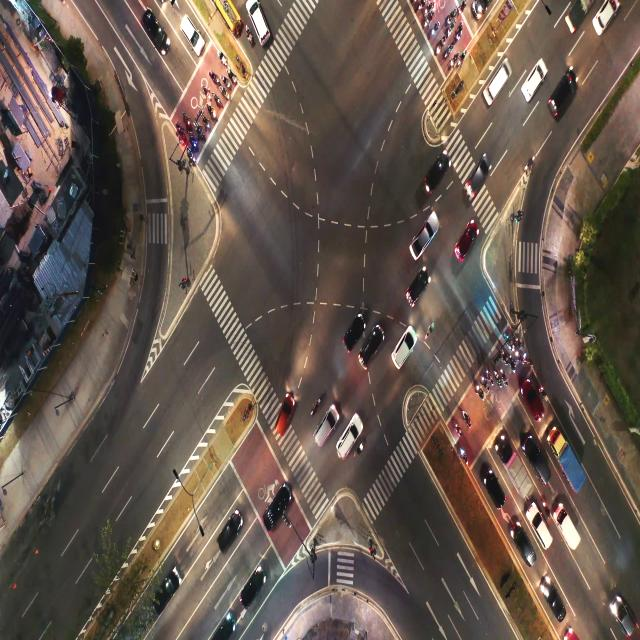bus: (223, 0, 236, 21)
car: (598, 0, 620, 25), (460, 225, 472, 259), (242, 582, 258, 607), (517, 532, 532, 558), (414, 231, 430, 254), (487, 74, 501, 99), (556, 81, 568, 110), (183, 24, 198, 47), (534, 520, 548, 544), (220, 525, 236, 545), (409, 280, 425, 300), (159, 586, 174, 606), (469, 170, 483, 190), (524, 74, 536, 97), (342, 428, 352, 455), (269, 502, 280, 524), (427, 169, 440, 187), (276, 407, 286, 429), (346, 329, 358, 346), (364, 342, 374, 362), (150, 30, 162, 44), (491, 487, 500, 504), (256, 10, 264, 29), (399, 346, 407, 364), (552, 598, 561, 614), (320, 424, 329, 439), (535, 454, 541, 476), (532, 392, 536, 411)
motorcycle: (426, 321, 434, 336), (525, 157, 534, 170), (310, 400, 318, 414), (450, 57, 458, 66), (431, 25, 436, 38), (220, 54, 225, 66), (358, 444, 363, 456), (462, 448, 467, 460), (456, 30, 461, 42), (476, 384, 481, 395), (184, 118, 190, 127), (204, 116, 209, 126), (455, 422, 460, 432), (486, 370, 491, 380), (447, 15, 452, 25), (463, 415, 468, 424), (501, 353, 506, 362), (178, 125, 182, 136), (246, 32, 251, 40), (222, 77, 226, 87), (228, 71, 232, 81), (482, 376, 486, 386), (462, 50, 465, 63), (199, 128, 202, 140), (223, 90, 227, 99), (444, 50, 449, 57), (516, 337, 520, 345), (188, 153, 193, 159), (495, 373, 498, 383), (540, 388, 545, 394), (211, 108, 215, 115), (416, 5, 420, 12), (544, 503, 547, 512), (502, 371, 506, 377), (436, 48, 440, 54), (212, 73, 214, 84), (205, 89, 208, 96), (217, 96, 220, 103), (460, 6, 463, 13), (448, 28, 450, 38), (193, 137, 195, 146), (509, 339, 512, 345), (510, 355, 512, 364), (516, 352, 519, 358), (424, 22, 427, 28), (524, 354, 528, 358), (425, 9, 429, 13)
truck: (510, 460, 521, 485), (567, 453, 576, 475), (570, 12, 580, 28), (566, 520, 573, 538)
